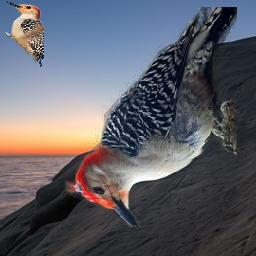Woodpecker: (65, 7, 237, 227), (6, 1, 45, 68)
